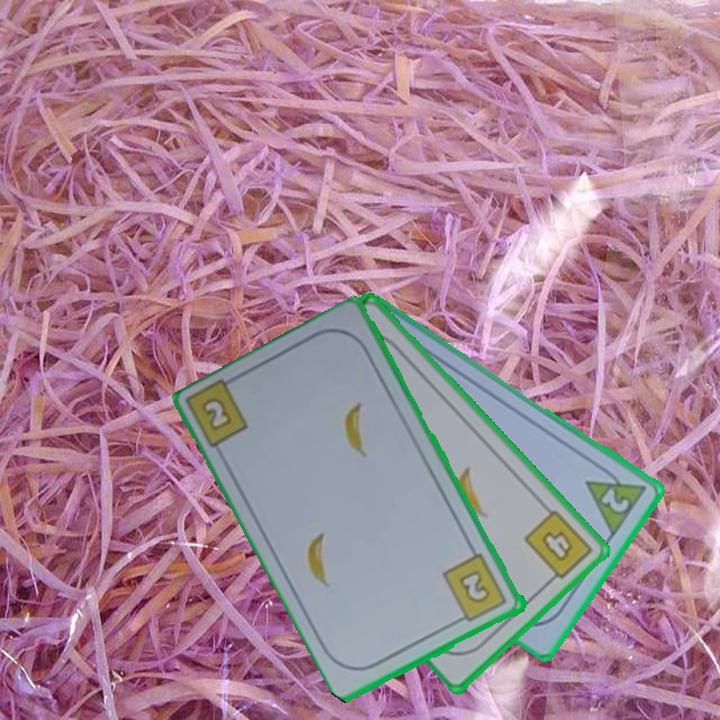2b: (439, 550, 510, 626), (198, 393, 236, 434)
2p: (582, 460, 650, 539)
4b: (520, 506, 596, 588)
